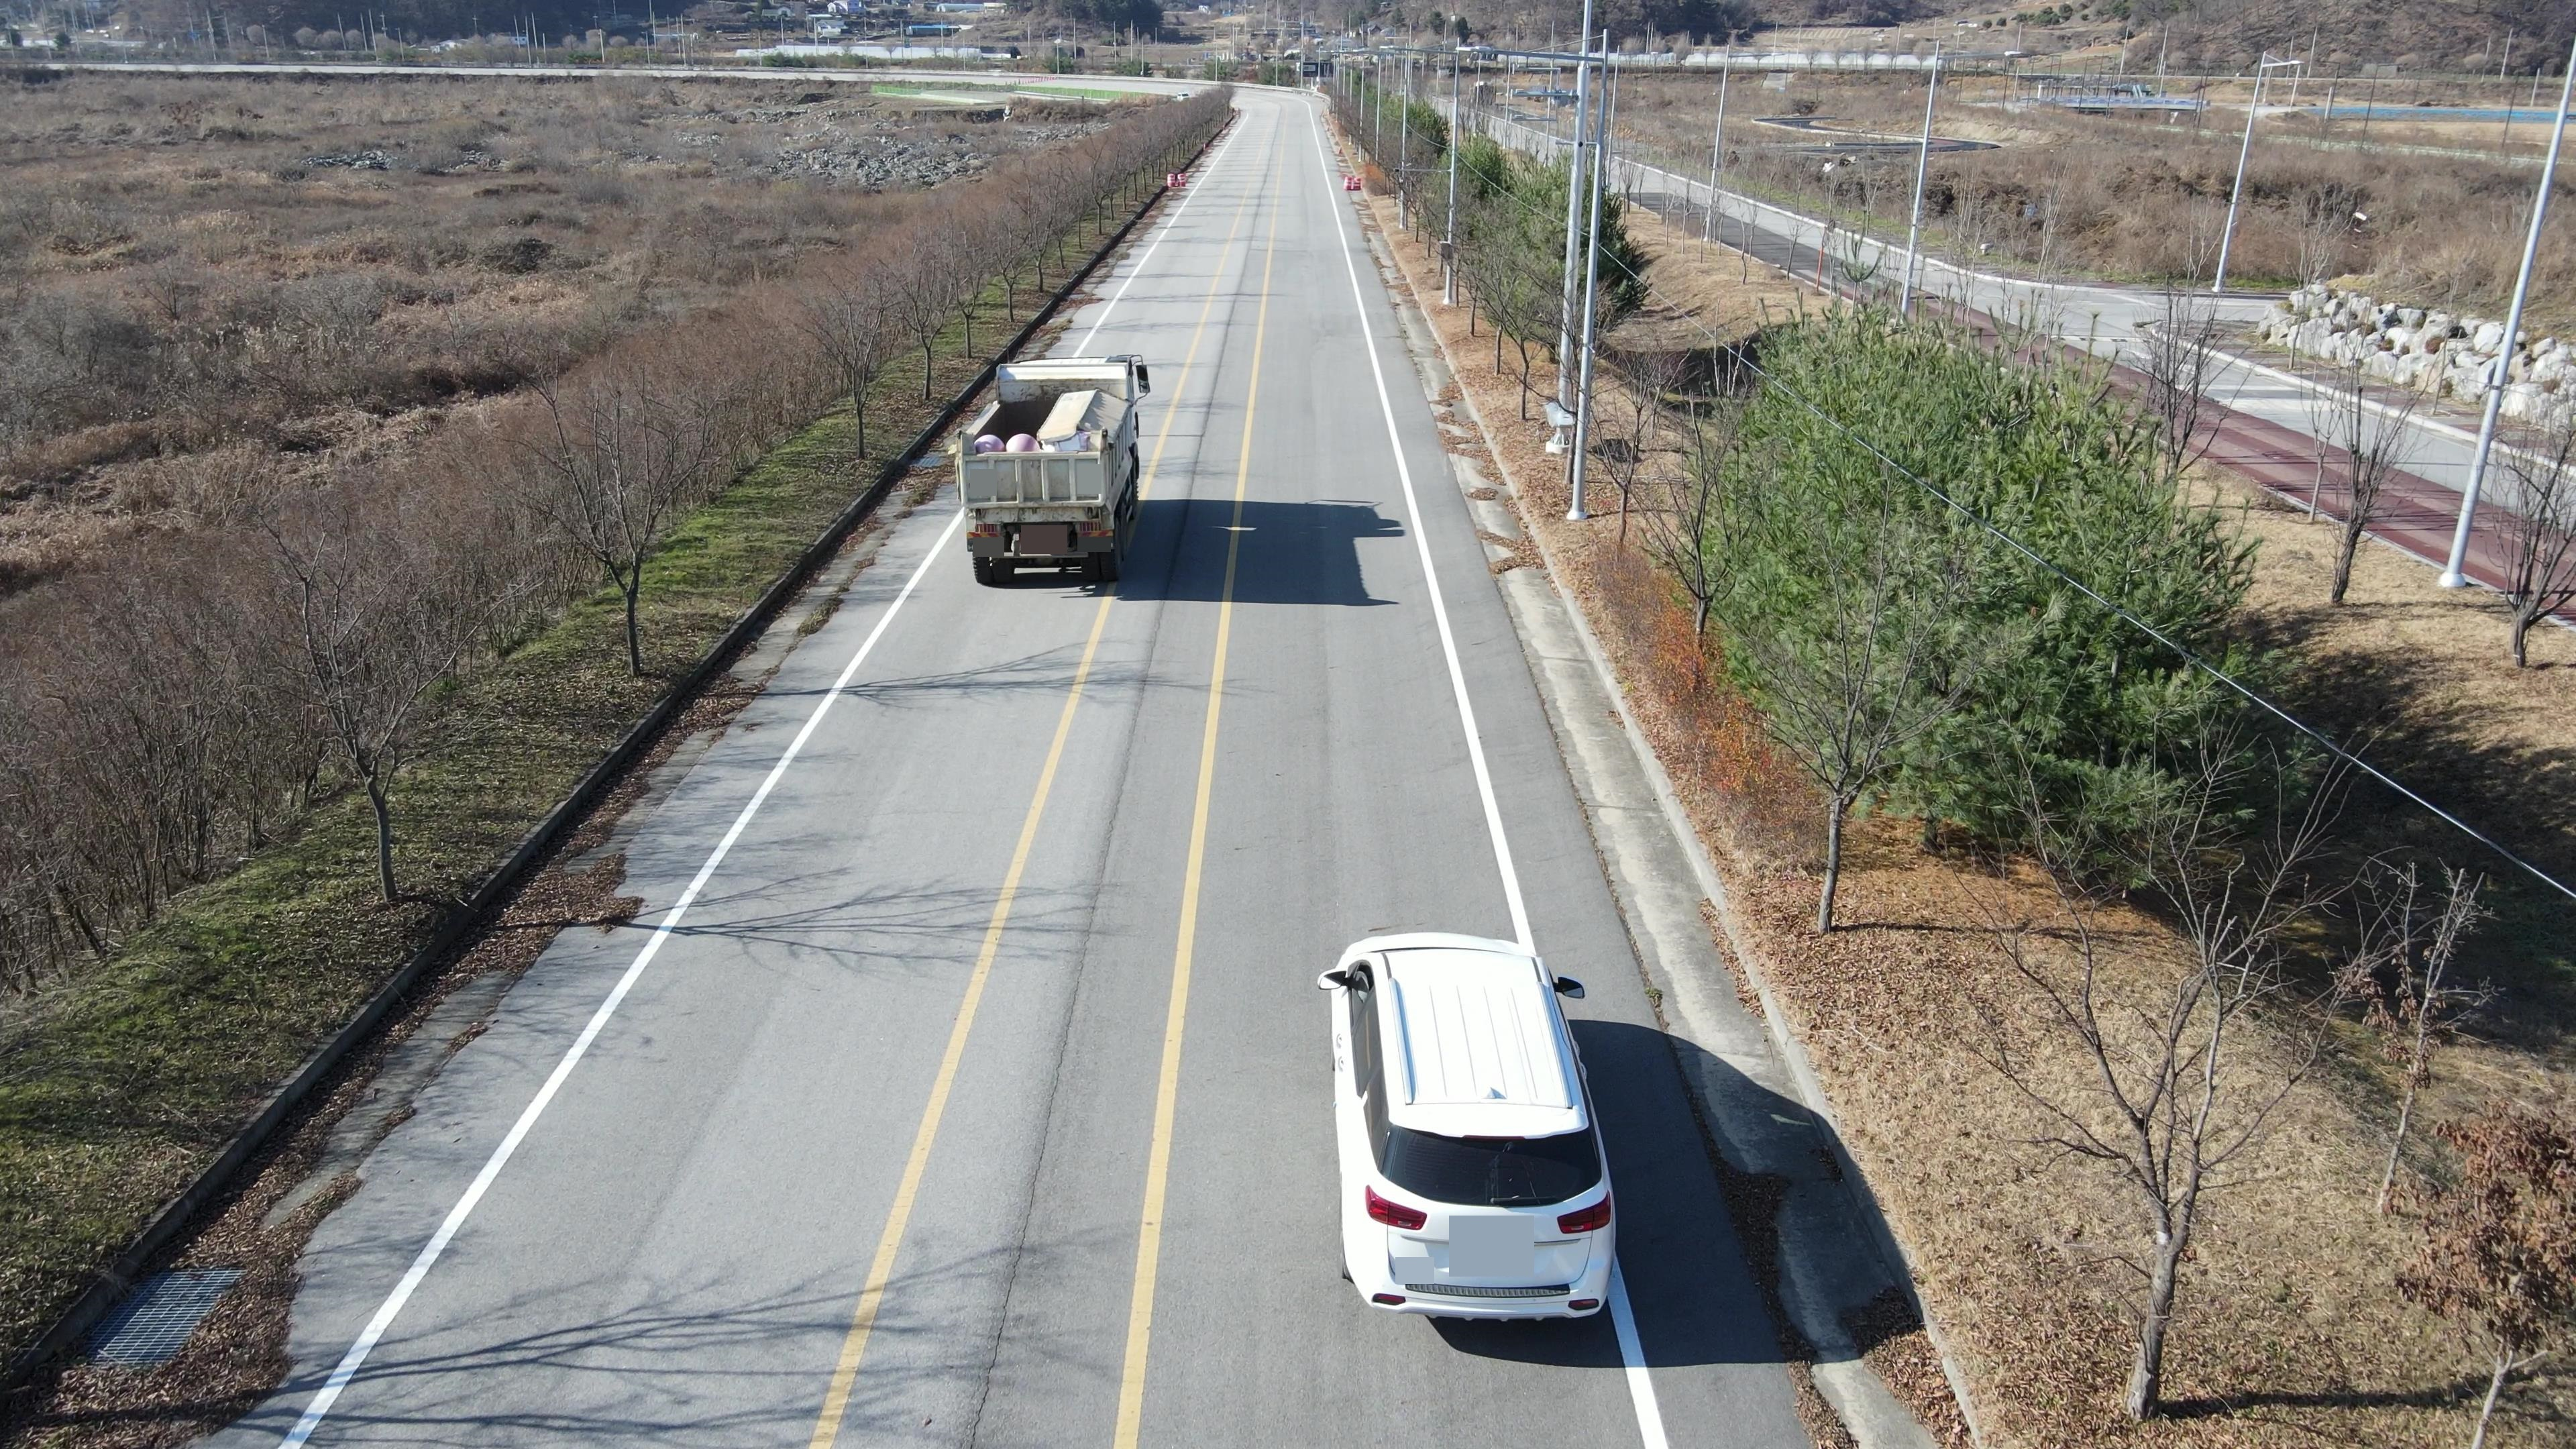불법차량: (954, 354, 1151, 585)
